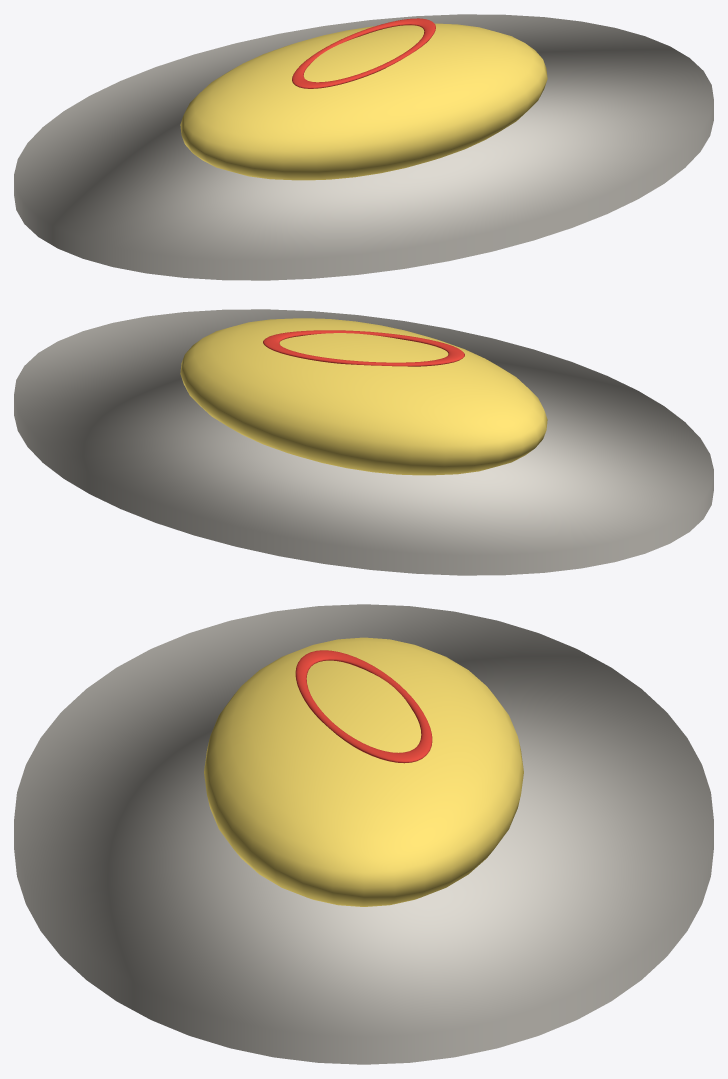
File: omurice.glb
3 renders of one model, top to bottom at view 1: azimuth 30°, elevation 25°; view 2: azimuth 150°, elevation 25°; view 3: azimuth 270°, elevation 25°, orthographic. The views are drawn at different scales.
Bounding box in the file's own units: 2.69 × 0.42 × 1.84.
